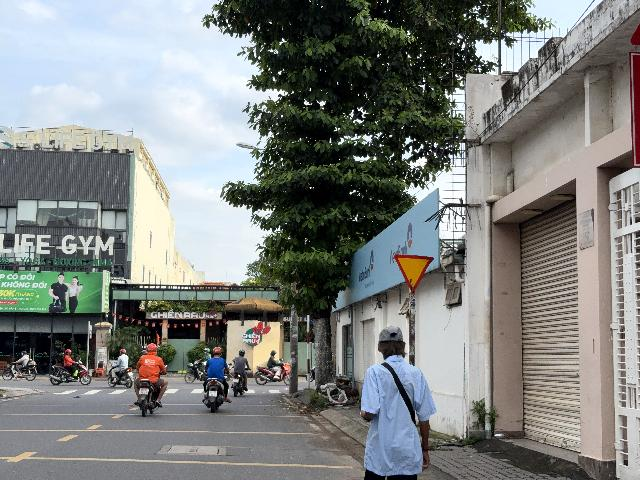giao-nhau-voi-duong-uu-tien: (393, 254, 435, 292)
